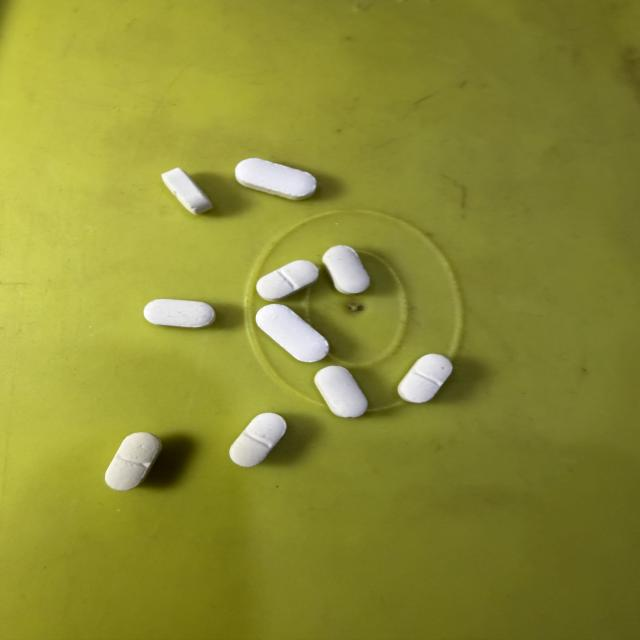pill: (256, 304, 328, 362), (236, 158, 316, 199), (105, 433, 161, 490), (230, 413, 286, 466), (315, 366, 367, 417), (398, 354, 452, 403), (257, 260, 318, 300), (162, 168, 212, 214), (323, 246, 369, 294), (144, 299, 215, 327)
